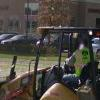Tractor: (24, 20, 100, 100)
